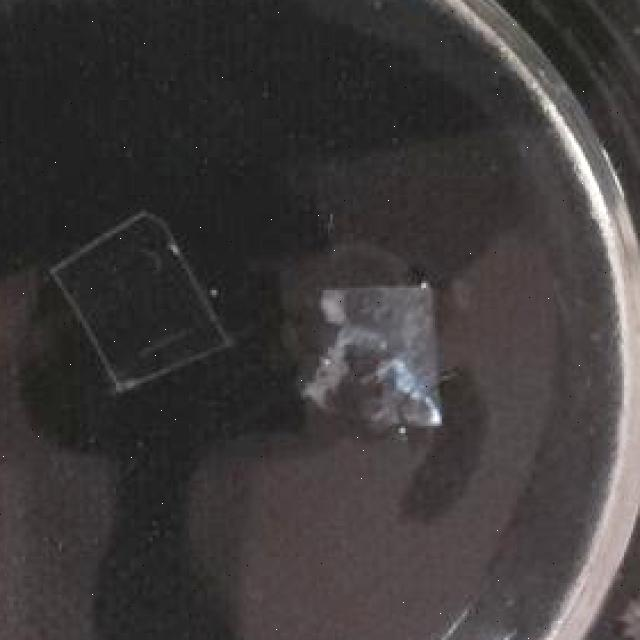Microplastic: (41, 195, 241, 407), (298, 257, 458, 438)
